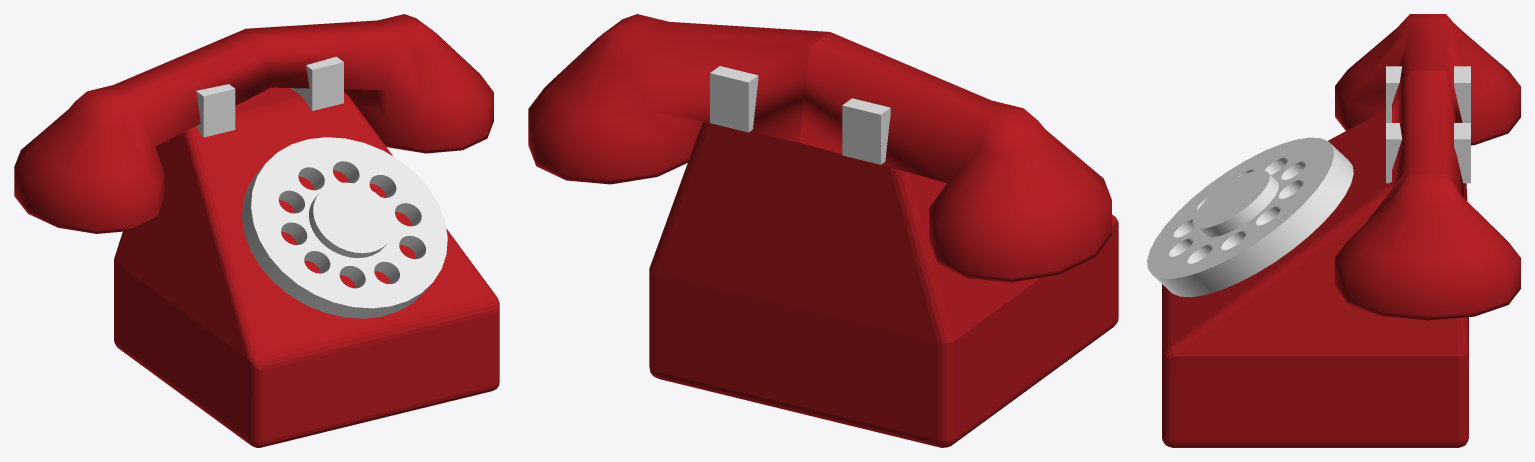
Rendered from phone.glb.
3 views of the same model, side by side, from view 1: azimuth 30°, elevation 25°; view 2: azimuth 150°, elevation 25°; view 3: azimuth 270°, elevation 25° (orthographic). The views are drawn at different scales.
Parts seen in each view (by area): view 1: Plane, Circle, Circle.001, Plane.001; view 2: Plane, Circle, Plane.001; view 3: Plane, Circle, Circle.001, Plane.001.
Part boxes in pixels (<box>): Plane: <box>114,87,499,447</box>; Circle: <box>14,14,493,233</box>; Circle.001: <box>242,137,447,318</box>; Plane.001: <box>196,56,343,137</box>; Plane: <box>649,122,1118,447</box>; Circle: <box>528,14,1111,282</box>; Plane.001: <box>710,66,890,164</box>; Plane: <box>1162,110,1468,447</box>; Circle: <box>1335,14,1520,320</box>; Circle.001: <box>1147,137,1353,297</box>; Plane.001: <box>1386,66,1470,183</box>.
Bounding box in the file's own units: 3.62 × 2.27 × 2.43.
